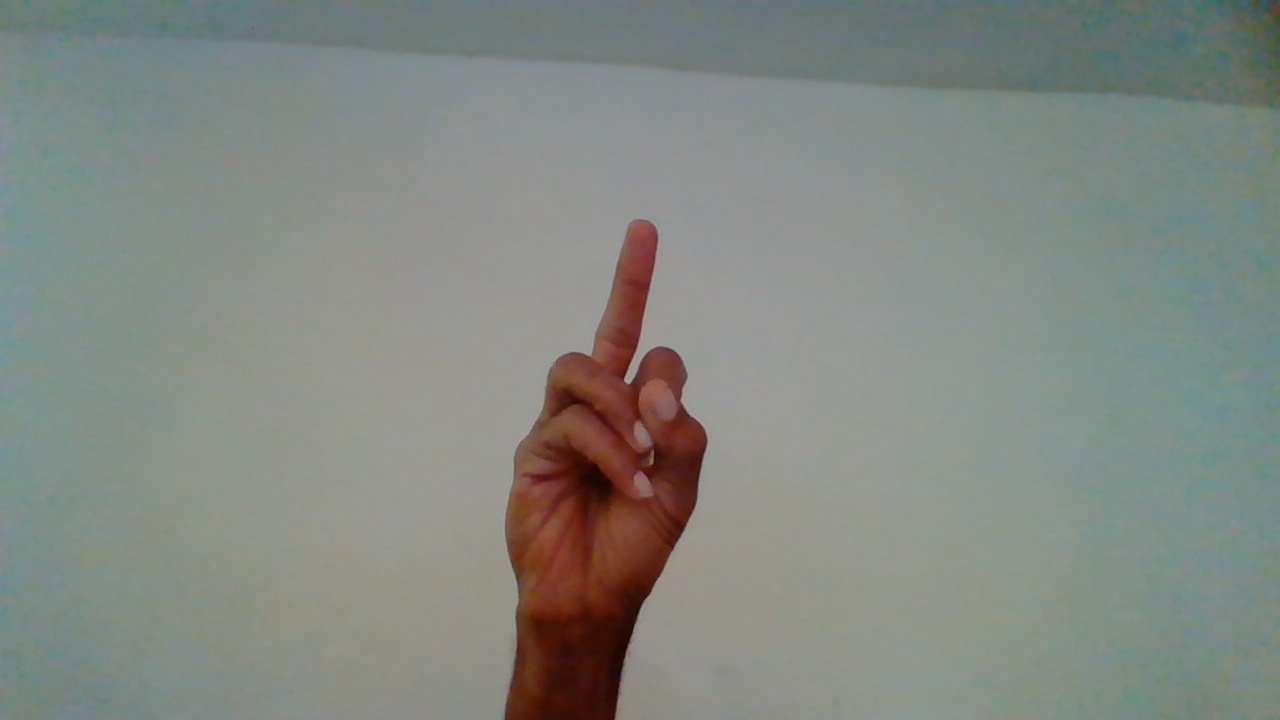he: (496, 221, 723, 701)
